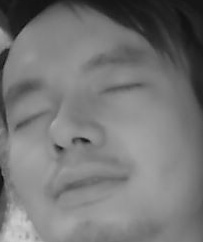blink: (96, 79, 140, 100), (14, 106, 52, 129)
mouth: (50, 161, 127, 209)
